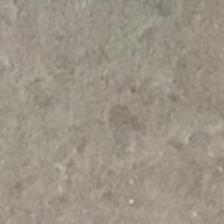Non_Crack: (4, 2, 224, 224)
